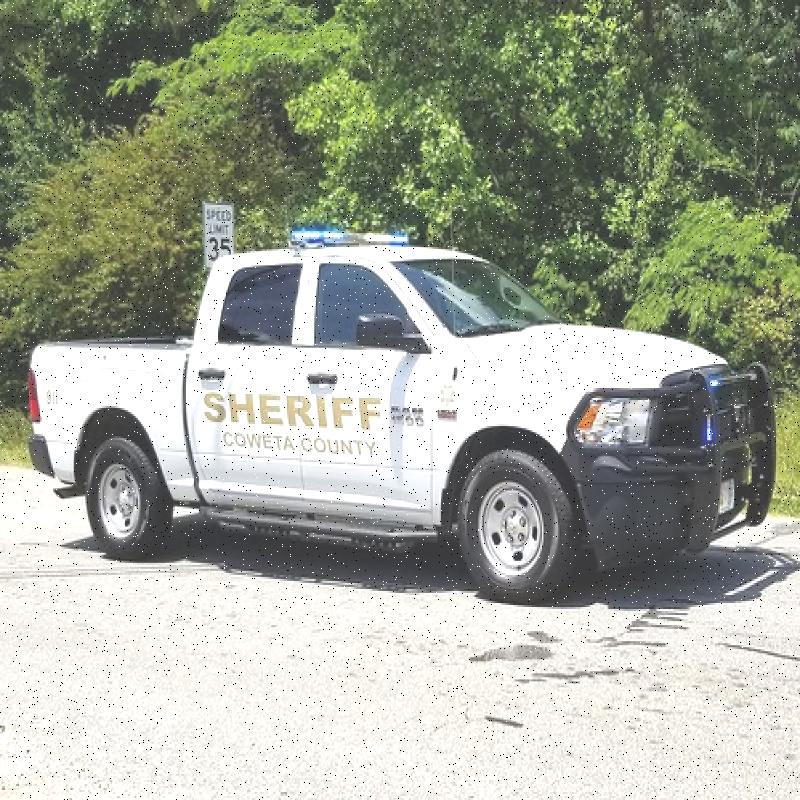AmbulanceSiren: (288, 196, 428, 260)
